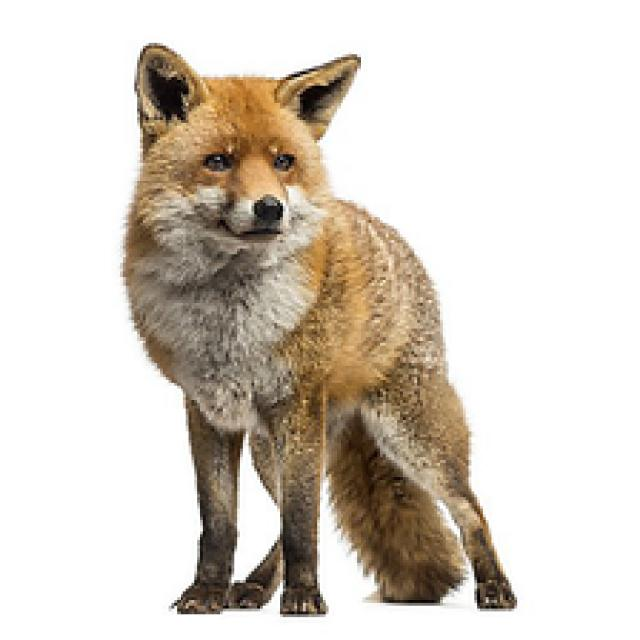fox: (87, 33, 552, 621)
